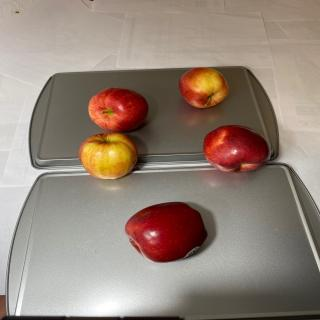Apple: (124, 201, 208, 263), (203, 124, 271, 172), (78, 132, 138, 180), (88, 87, 149, 132), (178, 67, 230, 108)
